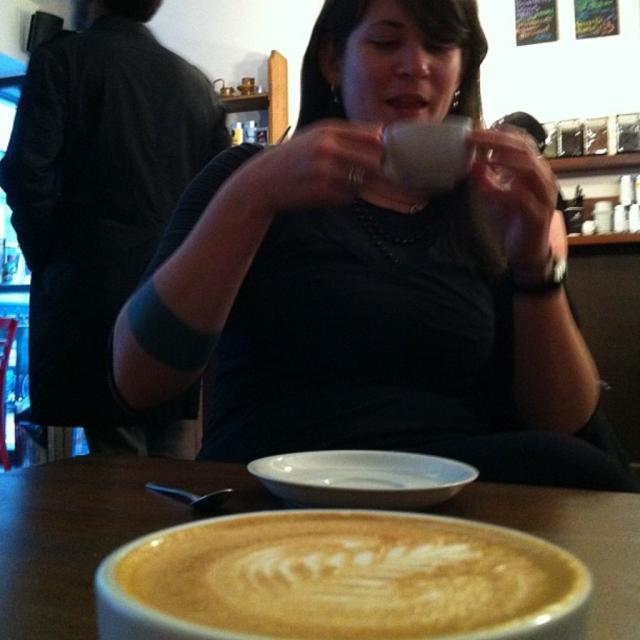Coffee: (98, 511, 595, 640)
